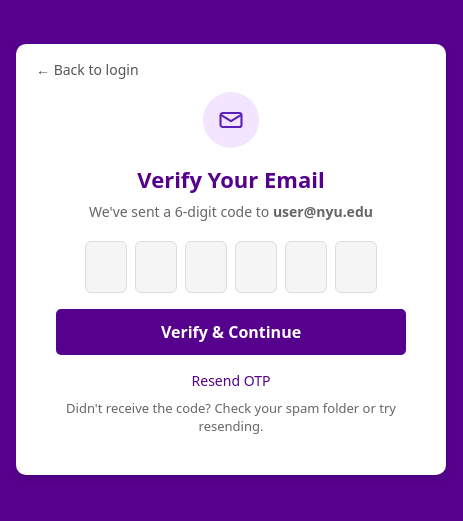
Test: VerifyEmail page › shows fallback error message when verification fails without response data
The image size is (463, 521).
Type "1" into the 1st field at coordinates (106, 266), box left=85, top=240, right=127, bottom=292
Type "1" into the 2nd field at coordinates (156, 266), box left=135, top=240, right=177, bottom=292
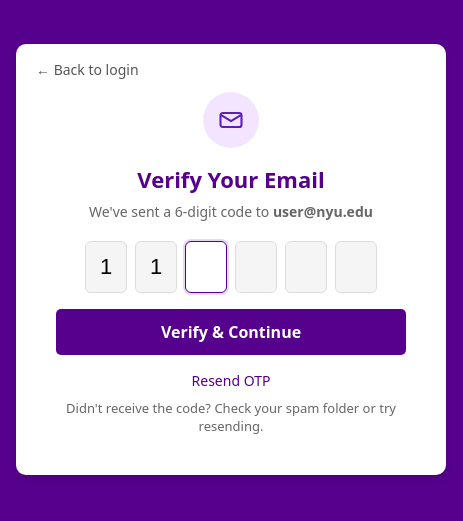
Type "1" into the 3rd field at coordinates (206, 266), box left=185, top=240, right=227, bottom=292
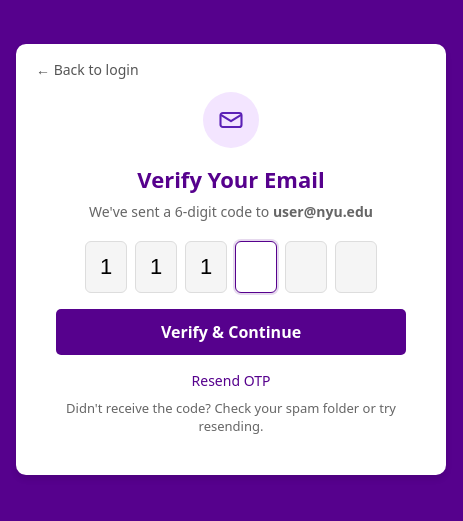
Type "1" into the 4th field at coordinates (256, 266), box left=235, top=240, right=277, bottom=292
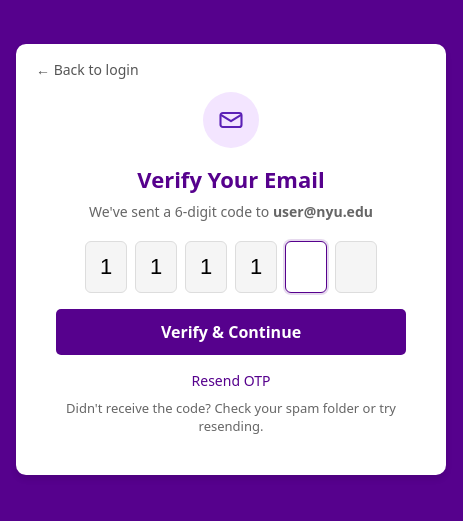
Type "1" into the 5th field at coordinates (306, 266), box left=285, top=240, right=327, bottom=292
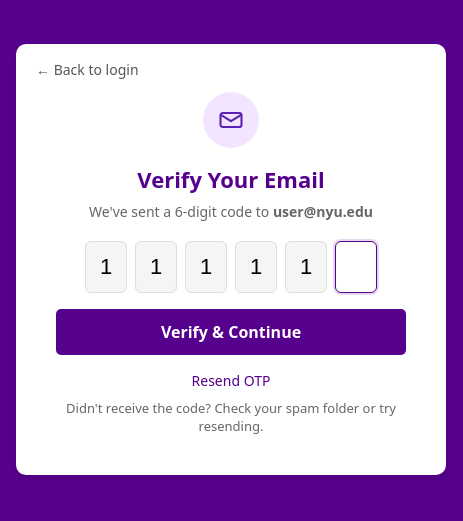
Type "1" into the 6th field at coordinates (356, 266), box left=335, top=240, right=377, bottom=292
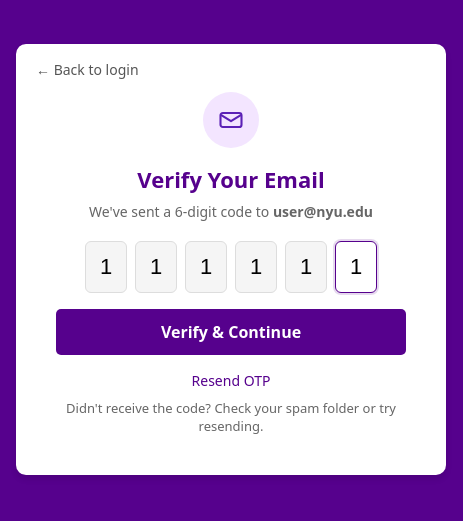
Click the button "Verify & Continue" at coordinates (231, 332), box left=56, top=308, right=406, bottom=354
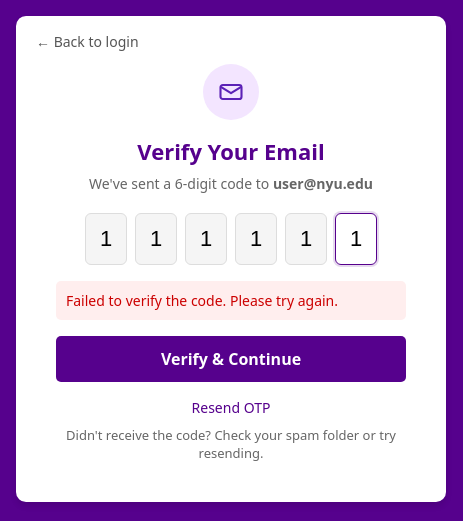
Expected: the text "Failed to verify the code. Please try again." is shown, left=56, top=281, right=406, bottom=320
